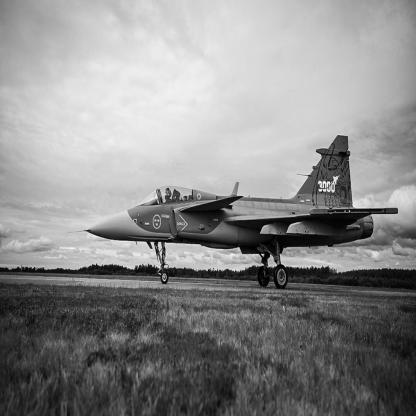JAS39: (68, 136, 399, 290)
